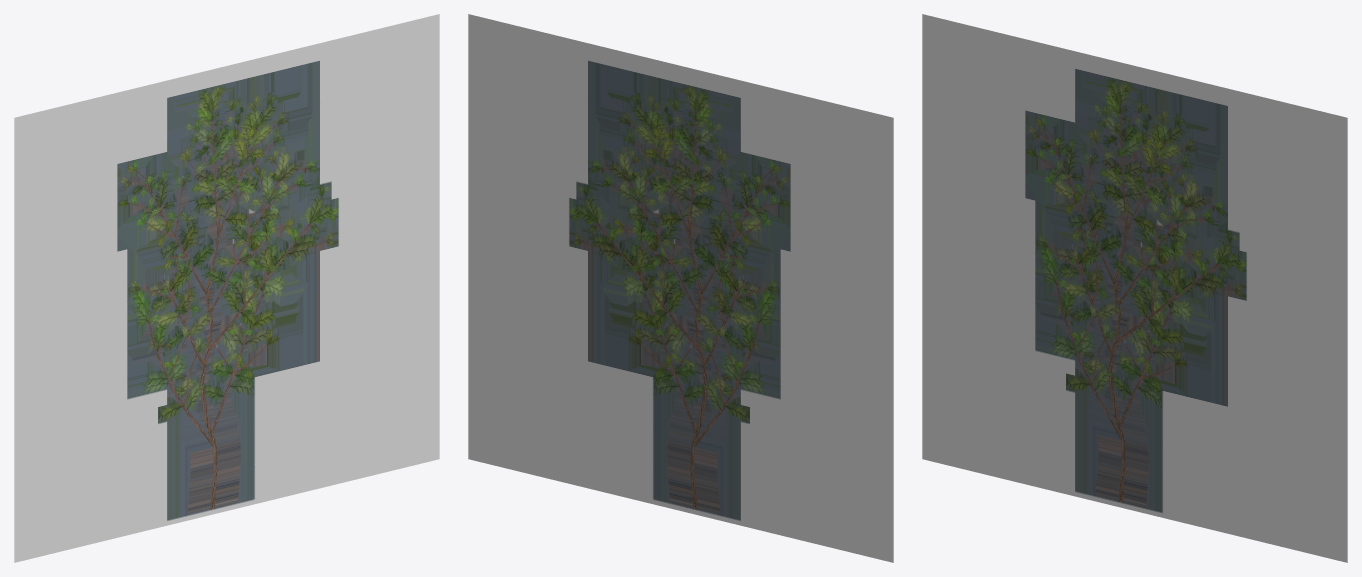
Rendered from BaseFoliageMesh1.FBX.
3 views of the same model, side by side, from view 1: azimuth 30°, elevation 25°; view 2: azimuth 150°, elevation 25°; view 3: azimuth 330°, elevation 25° (orthographic).
Visible parts, largest first — view 1: Plane001; view 2: Plane001; view 3: Plane001.
Part boxes in pixels (left/top/right/bottom): Plane001: left=14, top=14, right=439, bottom=562; Plane001: left=468, top=14, right=893, bottom=562; Plane001: left=922, top=14, right=1347, bottom=562.
Bounding box in the file's own units: 128 × 128 × 5.6e-06.
Materials: 1 (1 with a texture image).
